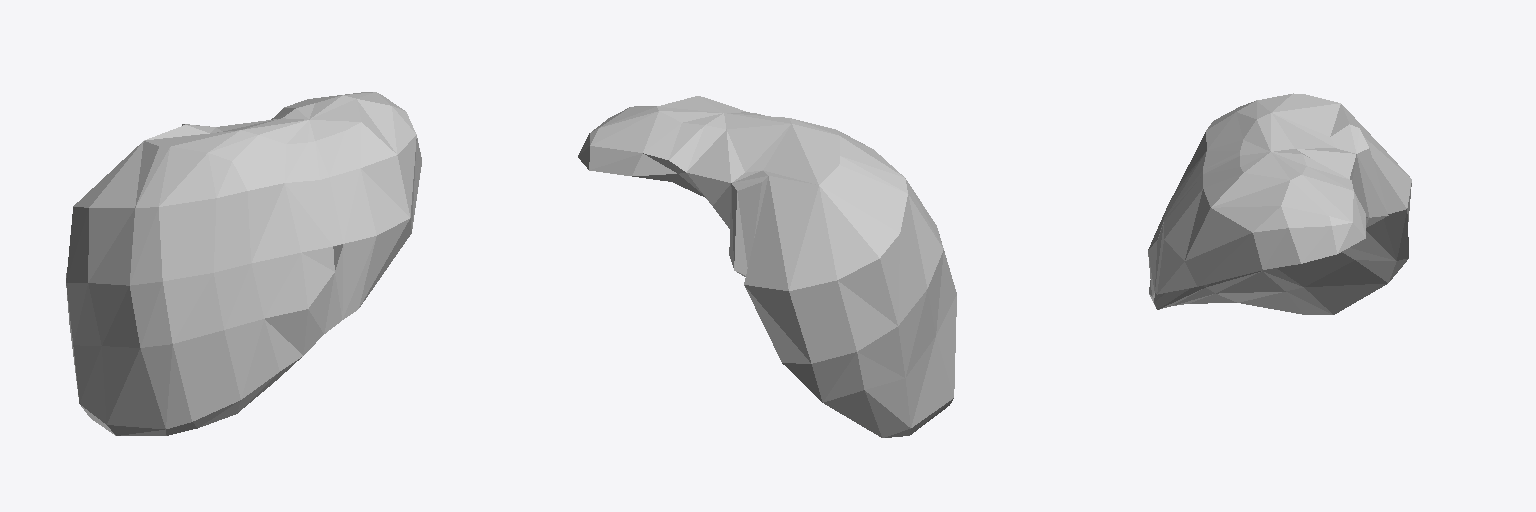
The model's file is tet.OBJ.
The picture shows the model from 3 angles: view 1: azimuth 30°, elevation 25°; view 2: azimuth 150°, elevation 25°; view 3: azimuth 270°, elevation 25°; orthographic projection.
Bounding box in the file's own units: 6.48 × 4.94 × 4.42.